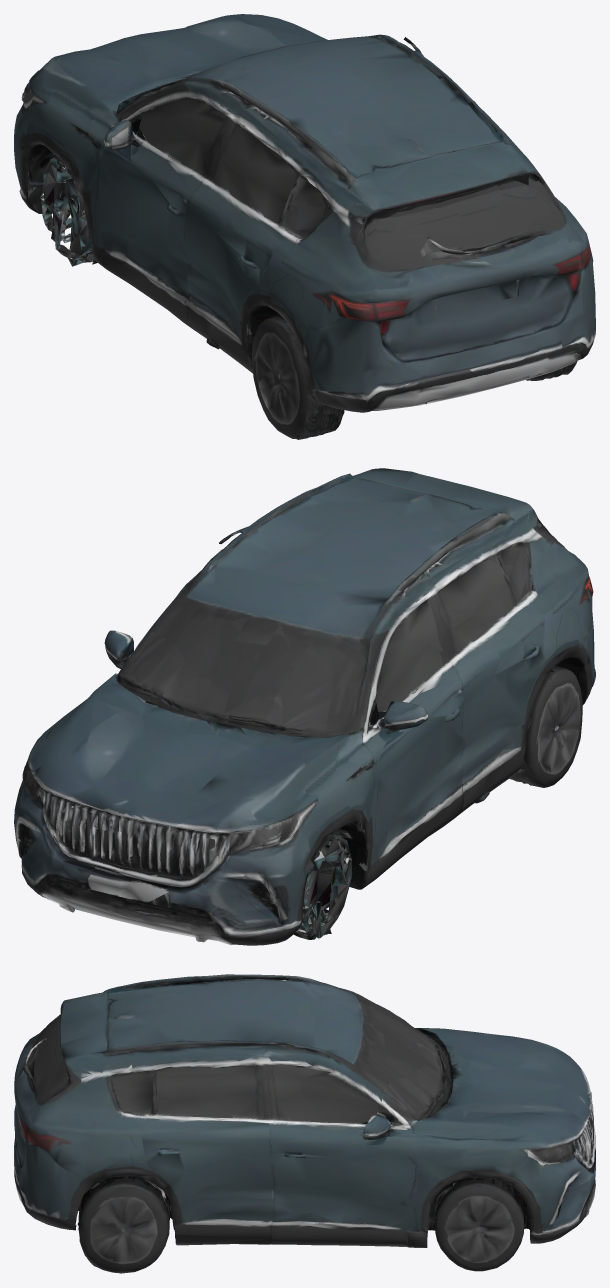
File: tugra_t10_lod2.glb
3 views of the same model, one above another, from view 1: azimuth 30°, elevation 25°; view 2: azimuth 150°, elevation 25°; view 3: azimuth 270°, elevation 25° (orthographic). The views are drawn at different scales.
Parts seen in each view (by area): view 1: Body, Wheel_RL, Wheel_FL; view 2: Body, Wheel_RL, Wheel_FL; view 3: Body, Wheel_RR, Wheel_FR.
Boxes of the visible parts, x1,y1,x2,y2 form: Body: [14, 14, 595, 412]; Wheel_RL: [246, 319, 344, 439]; Wheel_FL: [40, 158, 97, 266]; Body: [14, 468, 595, 945]; Wheel_RL: [509, 670, 582, 787]; Wheel_FL: [293, 833, 351, 939]; Body: [14, 974, 595, 1247]; Wheel_RR: [70, 1186, 177, 1273]; Wheel_FR: [427, 1185, 529, 1271].
Bounding box in the file's own units: 2.36 × 1.87 × 4.6.
Materials: 1 (1 with a texture image).
